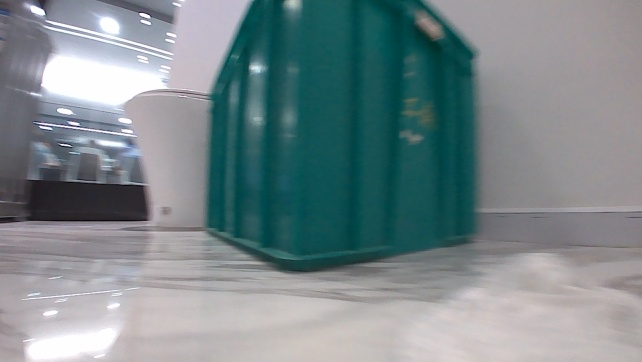toilet: (124, 84, 210, 233)
